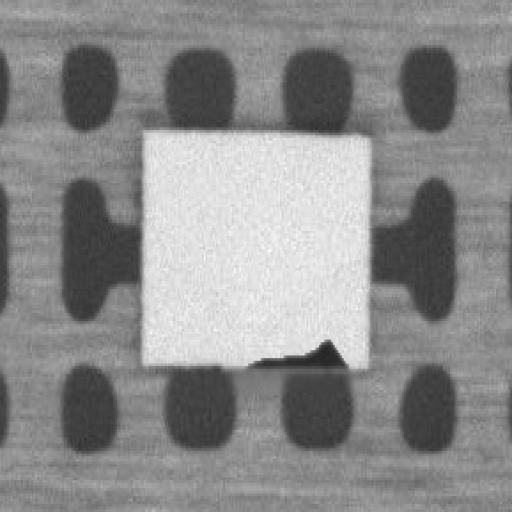DIE_BROKEN: (250, 332, 349, 366)
